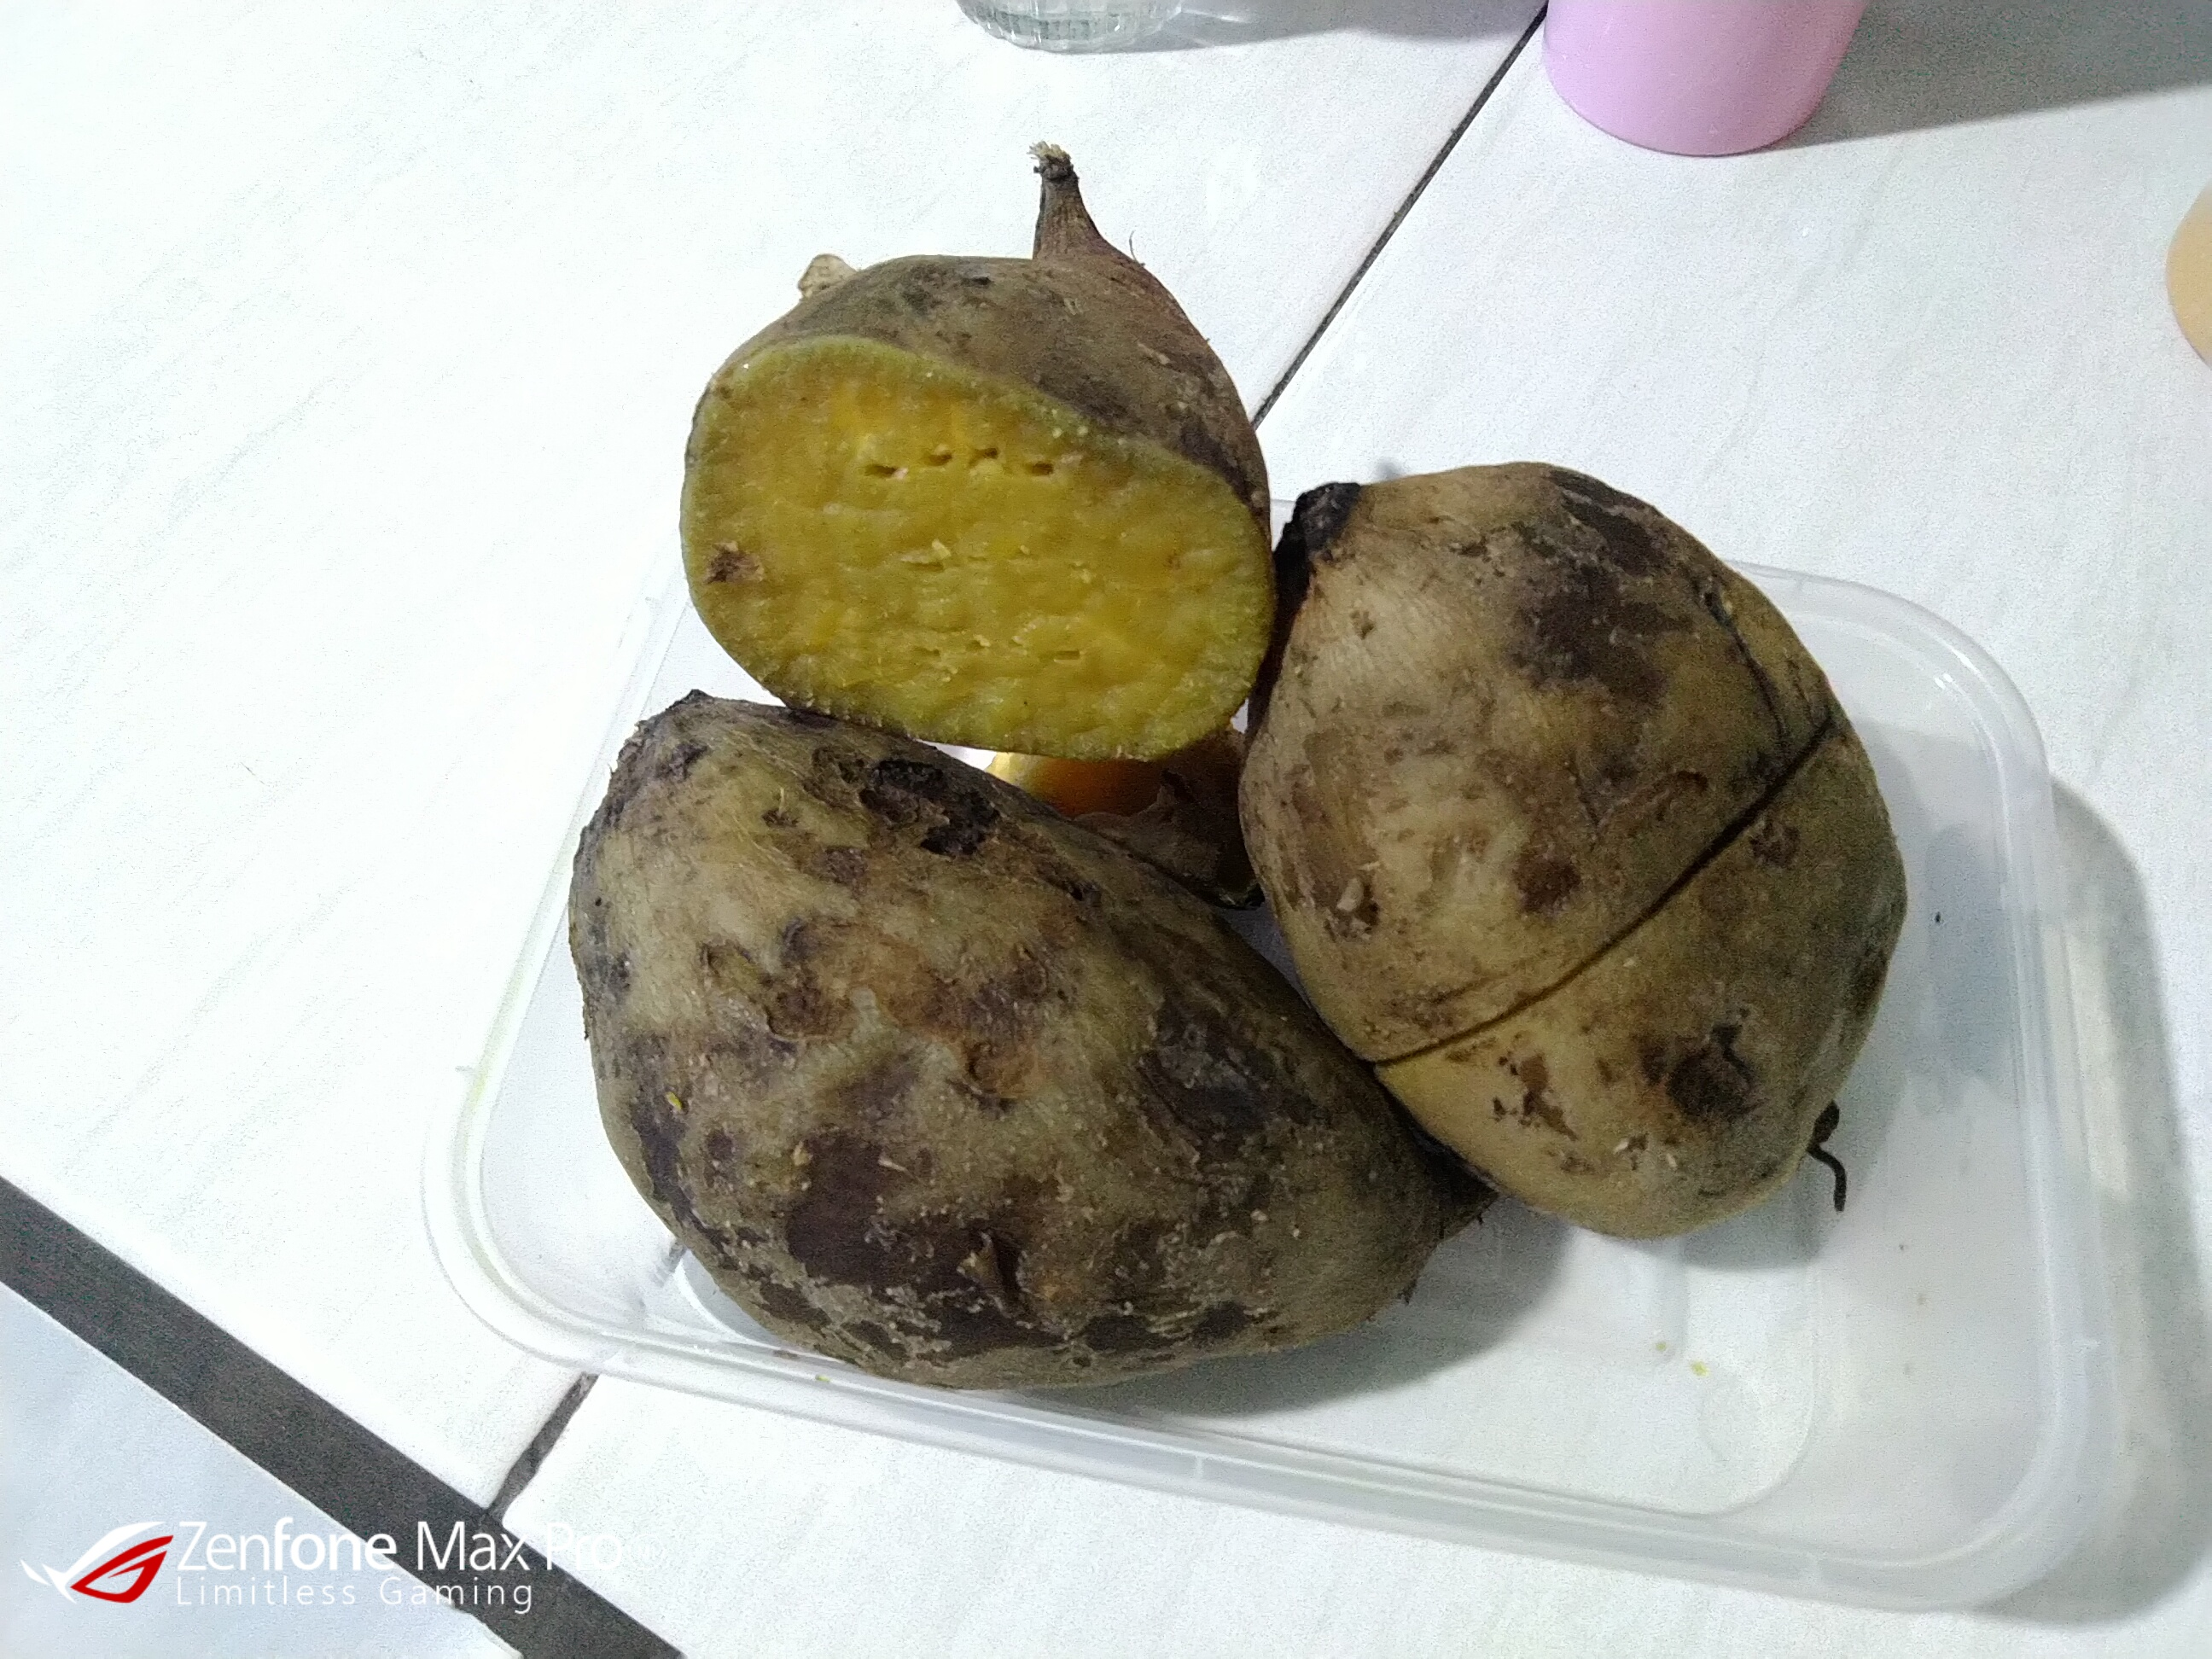ubi kuning: (550, 697, 1524, 1399), (1231, 476, 1905, 1199), (672, 125, 1271, 720)
